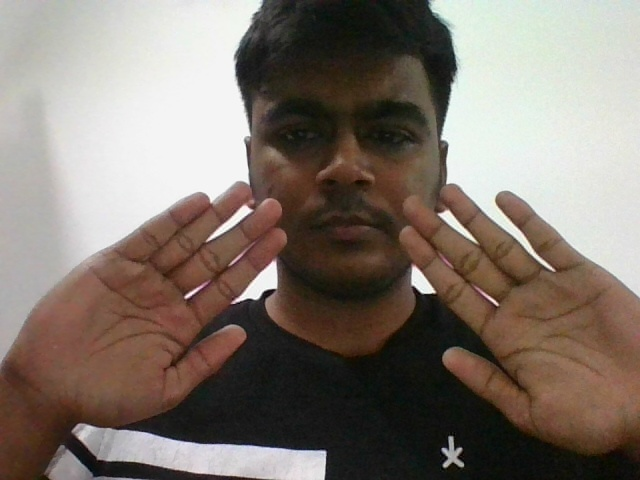thankyou: (93, 181, 593, 412)
